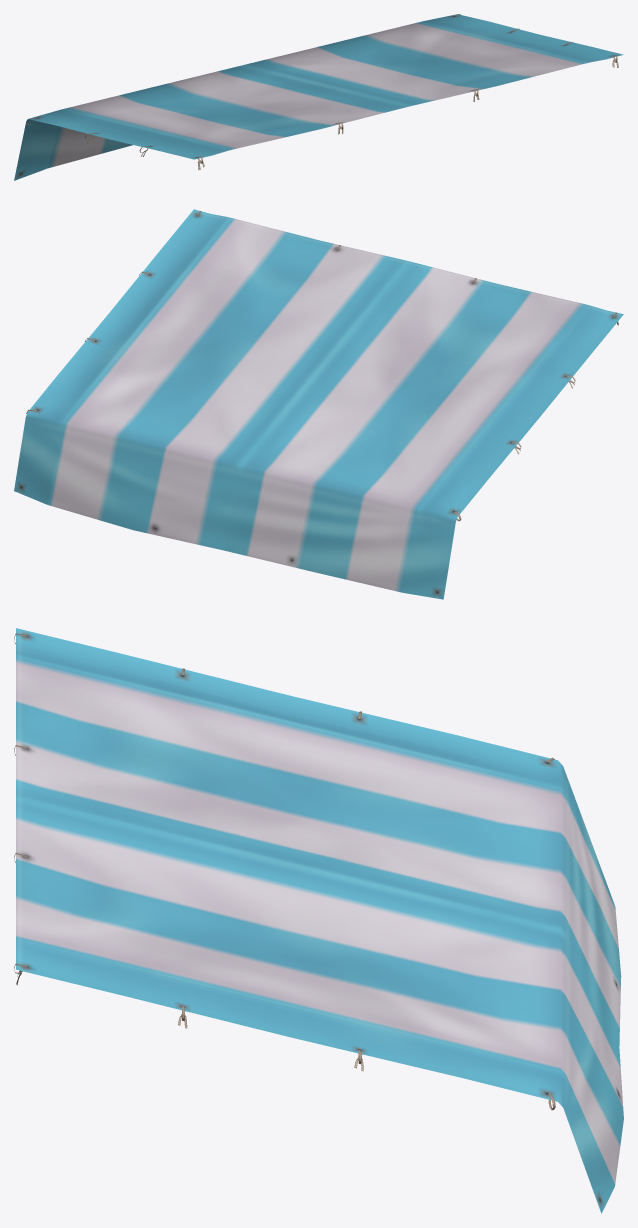
The model's file is jsf_Ceiling_s03_c02_t02.fbx.
3 views of the same model, one above another, from view 1: azimuth 30°, elevation 25°; view 2: azimuth 150°, elevation 25°; view 3: azimuth 270°, elevation 25° (orthographic). The views are drawn at different scales.
Parts seen in each view (by area): view 1: jsf_Ceiling_s03_c02_t02; view 2: jsf_Ceiling_s03_c02_t02; view 3: jsf_Ceiling_s03_c02_t02.
Boxes of the visible parts, <box> form: jsf_Ceiling_s03_c02_t02: <box>14,14,623,180</box>; jsf_Ceiling_s03_c02_t02: <box>14,209,623,599</box>; jsf_Ceiling_s03_c02_t02: <box>14,628,623,1213</box>.
Size of the model in its own units: 315 by 106 by 234.
